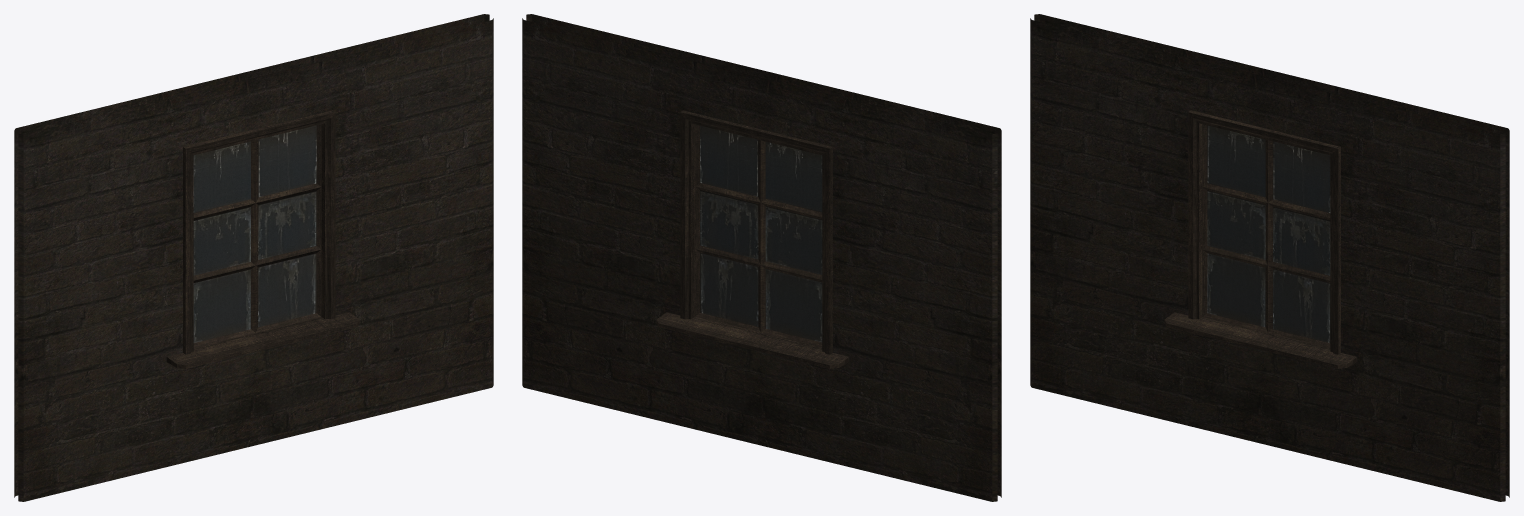
The model's file is window_1_single.obj.
The picture shows the model from 3 angles, left to right: view 1: azimuth 30°, elevation 25°; view 2: azimuth 150°, elevation 25°; view 3: azimuth 330°, elevation 25°; orthographic projection.
Visible parts, largest first — view 1: window_1_single; view 2: window_1_single; view 3: window_1_single.
Boxes of the visible parts, bbox=[...] form: window_1_single: bbox=[14, 14, 493, 501]; window_1_single: bbox=[522, 14, 1001, 501]; window_1_single: bbox=[1030, 14, 1509, 501].
Size of the model in its own units: 4.06 by 3 by 0.52.
